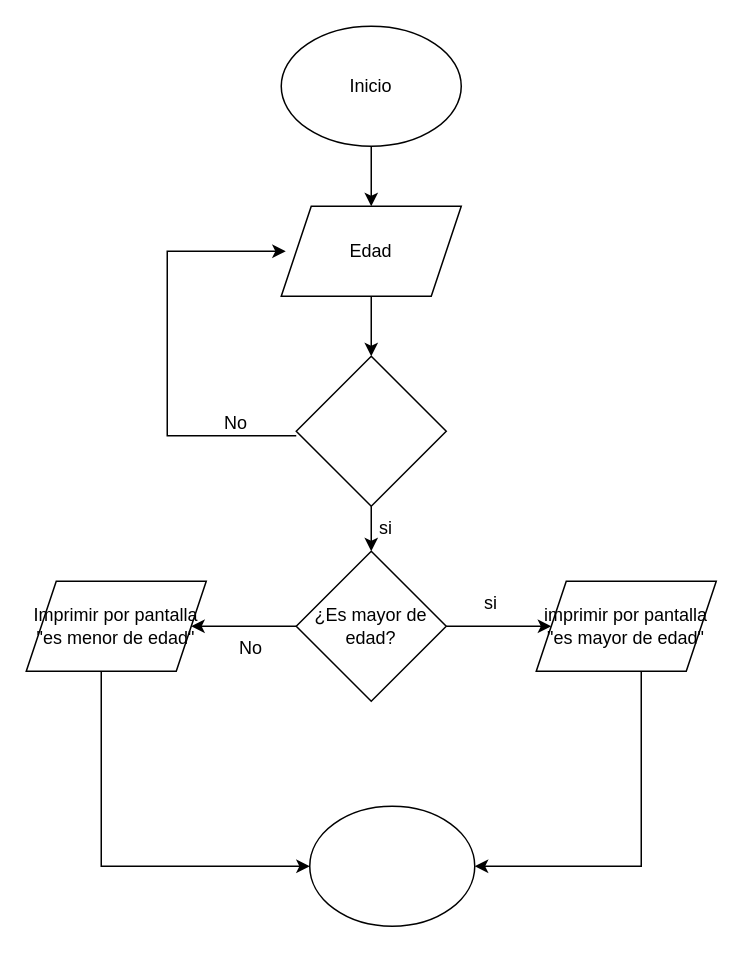
This 743x953 diagram has some shape labels left out. The shapes that lost their labels are listed below. From the top down, each one's centre as x and y in pixels, then its label:
(x=370, y=430): ¿El dato es correcto?
(x=391, y=865): fin
